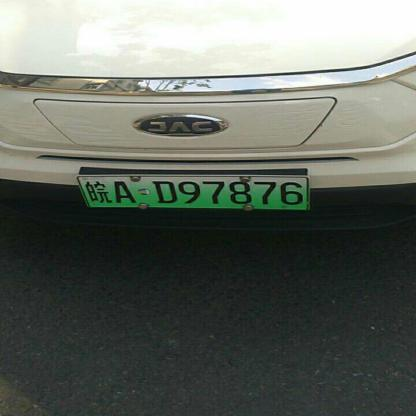lp: (77, 176, 307, 209)
